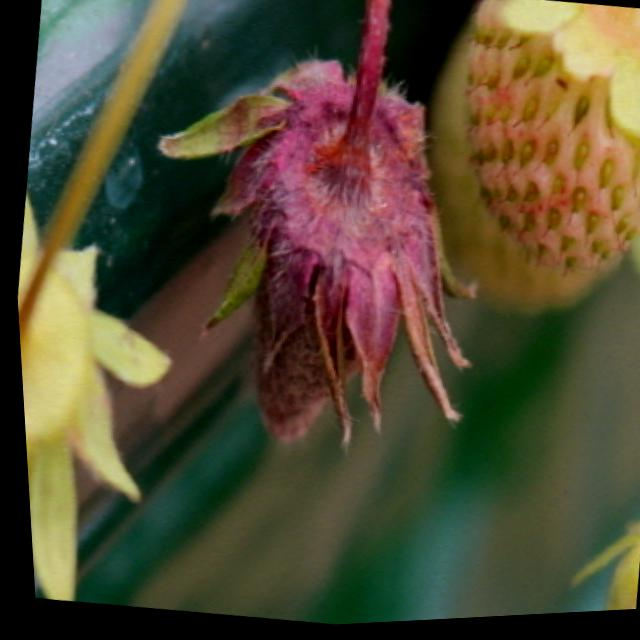Gray Mold: (207, 0, 473, 452)
